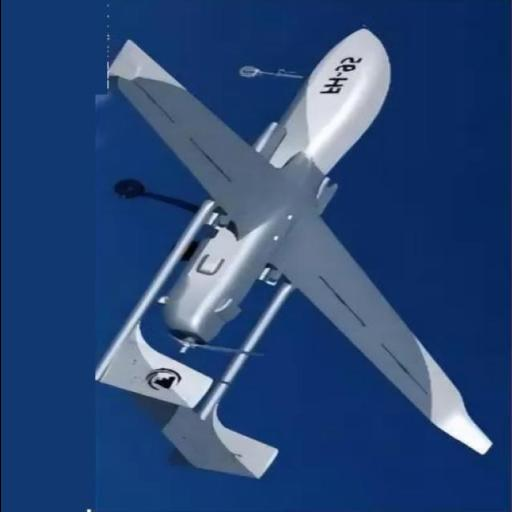uav: (62, 10, 498, 485)
